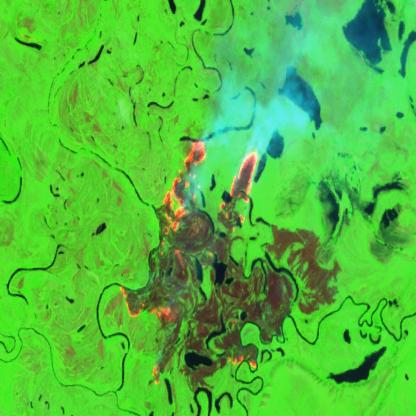fire: (119, 132, 270, 387)
